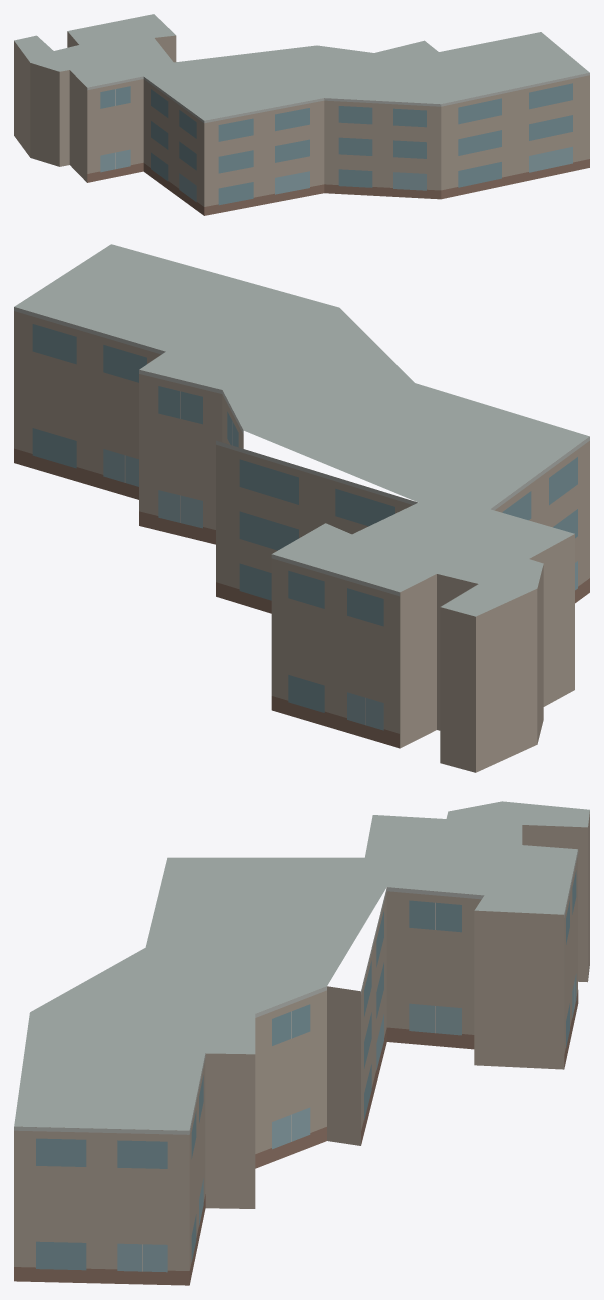
File: survey-upis-32472949.glb
3 views of the same model, one above another, from view 1: azimuth 30°, elevation 25°; view 2: azimuth 150°, elevation 25°; view 3: azimuth 270°, elevation 25° (orthographic). The views are drawn at different scales.
Parts seen in each view (by area): view 1: survey-upis-32472949.tmp; view 2: survey-upis-32472949.tmp; view 3: survey-upis-32472949.tmp.
Part boxes in pixels (left/top/right/bottom): survey-upis-32472949.tmp: left=14, top=14, right=589, bottom=215; survey-upis-32472949.tmp: left=14, top=244, right=589, bottom=772; survey-upis-32472949.tmp: left=14, top=801, right=589, bottom=1285.
Bounding box in the file's own units: 41.77 × 9.15 × 30.86.
